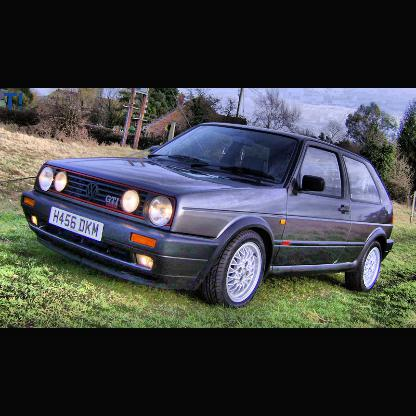Volkswagen Golf Hatchback 1991: (21, 121, 395, 309)
